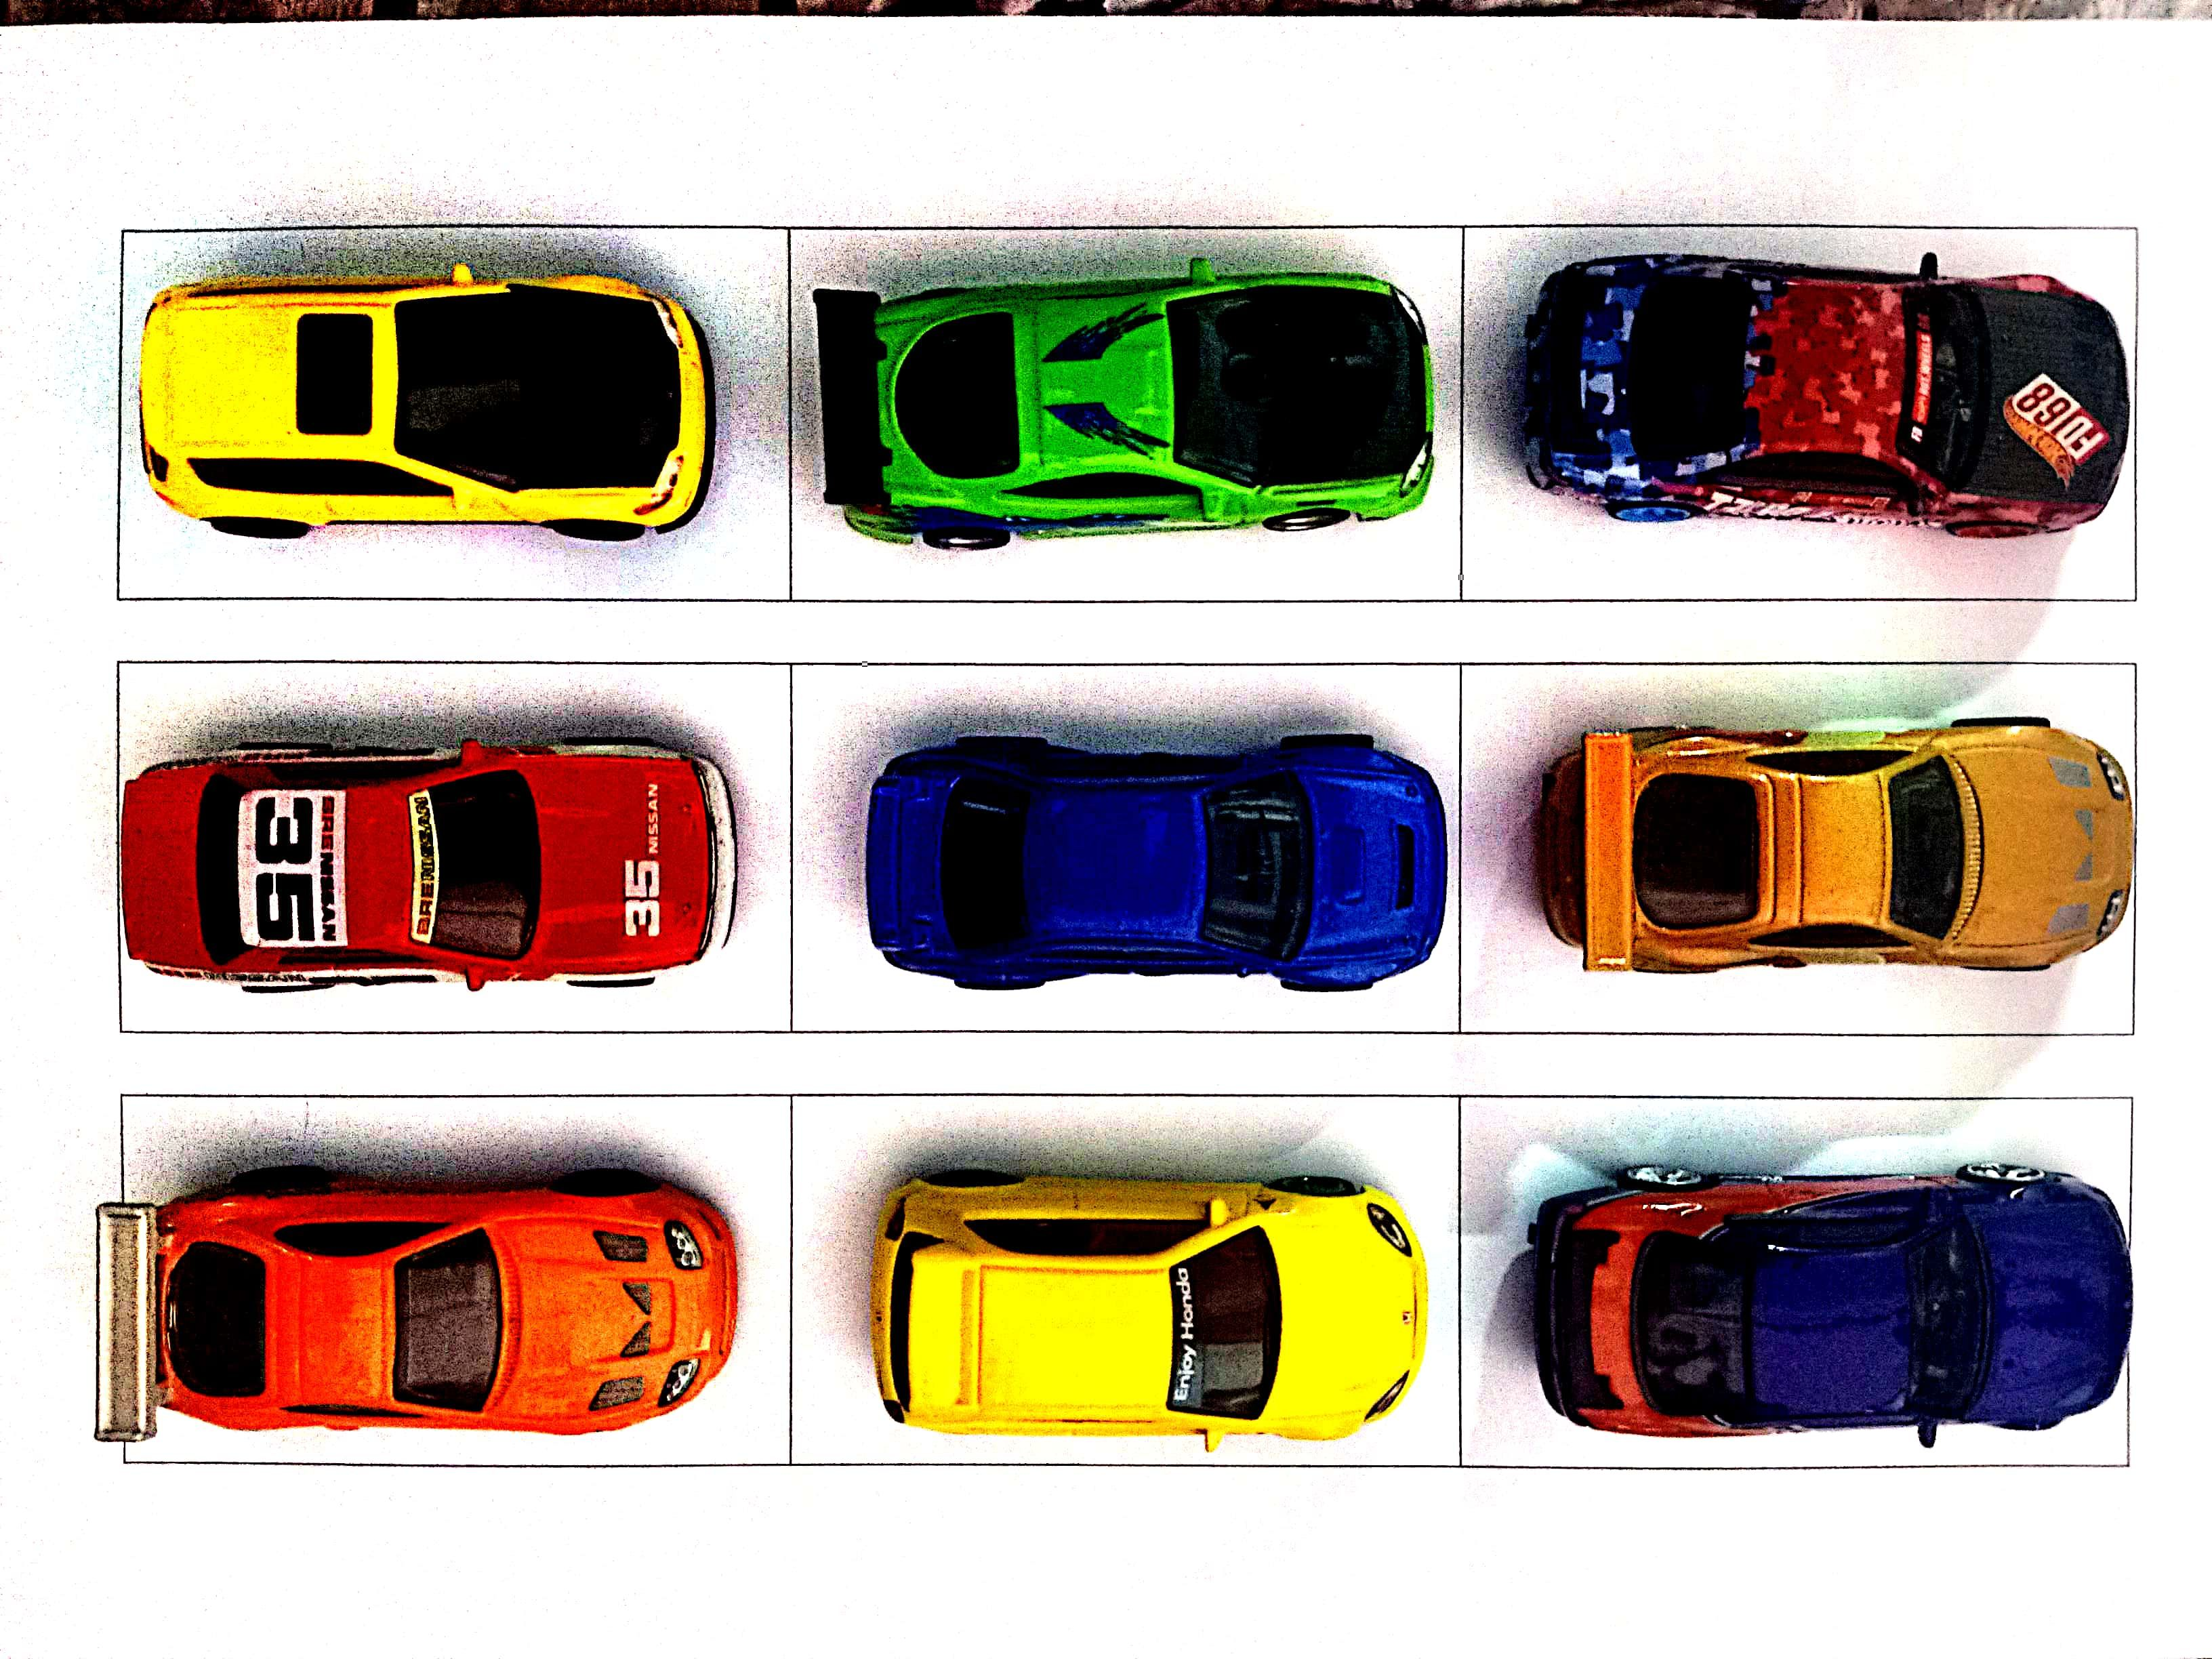Busy: (786, 230, 1458, 605), (1461, 1098, 2130, 1469), (113, 234, 791, 594), (1461, 235, 2139, 596), (789, 1094, 1458, 1459), (1458, 669, 2128, 1030), (789, 667, 1453, 1030), (122, 669, 784, 1028), (131, 1101, 786, 1460)
